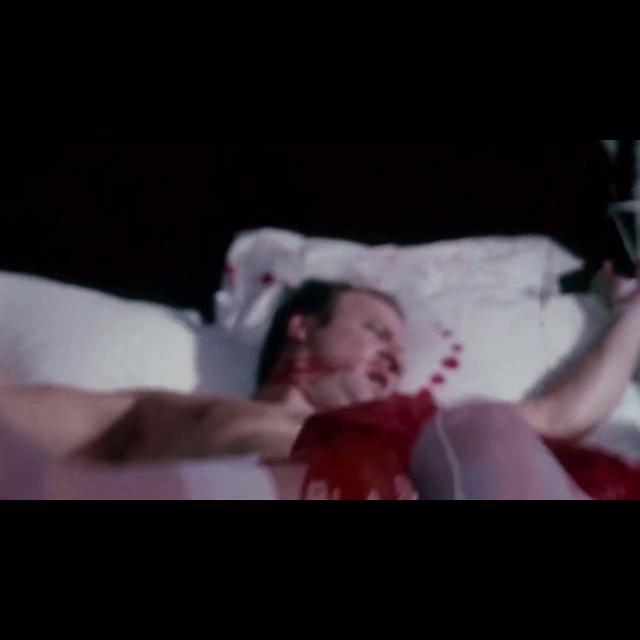blood: (264, 320, 464, 500), (87, 392, 222, 461), (552, 441, 640, 500), (269, 350, 350, 401)
